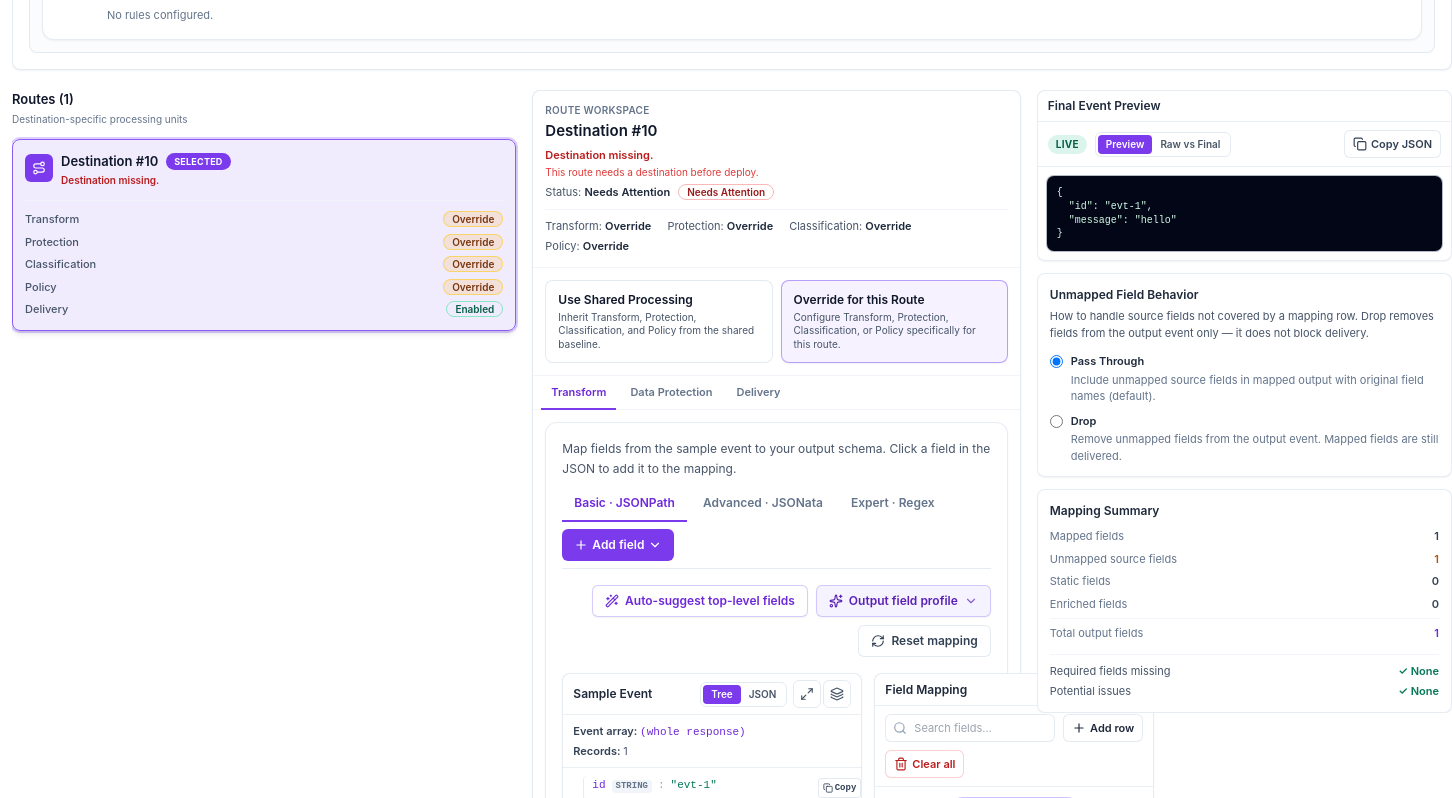
Test: StepRouteProcessing › shows unified data protection tab in route override mode
(page scrolled)
Click the tab with test id "route-detail-tab-data_protection".
click(671, 397)  # box left=620, top=384, right=722, bottom=410
(page scrolled)
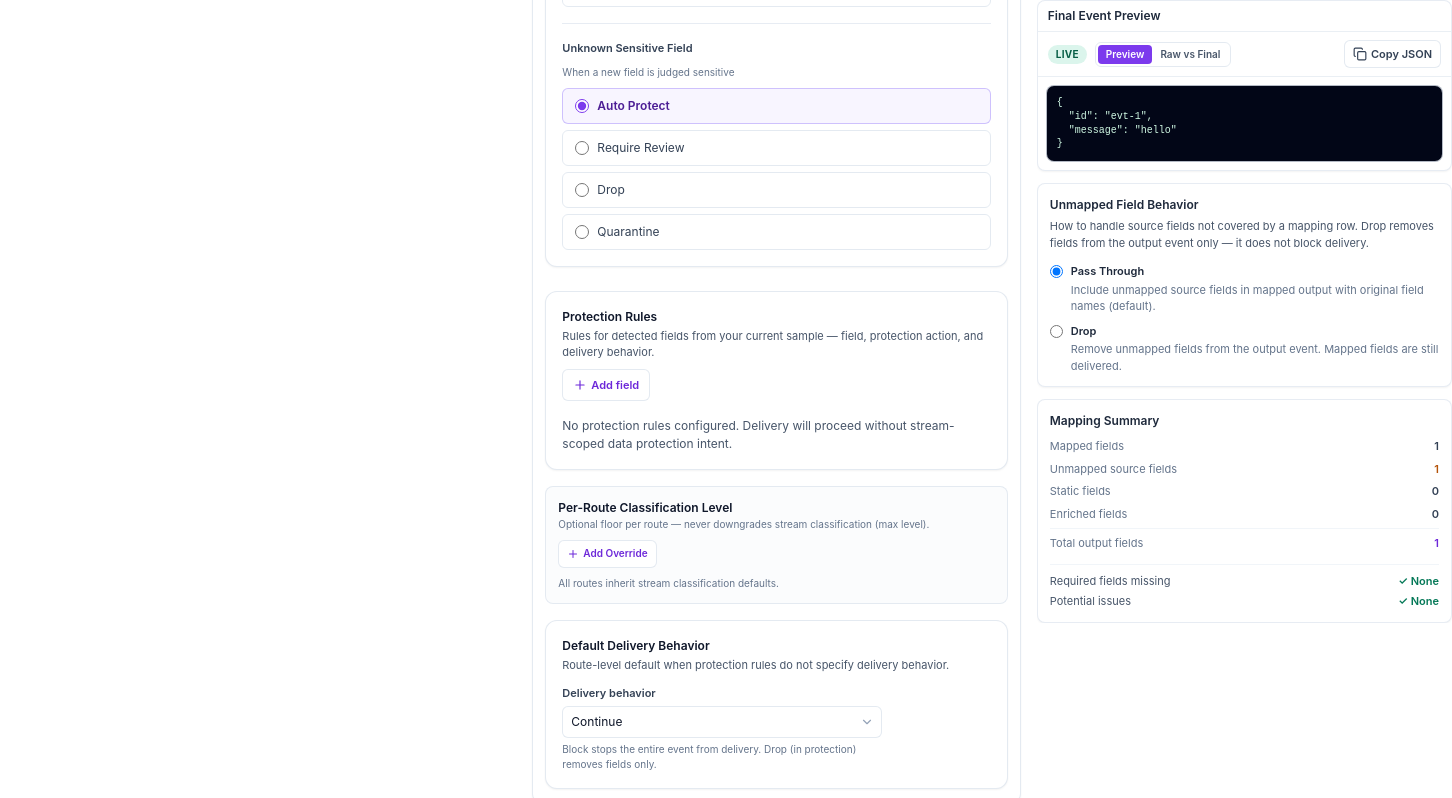
Result: the element with test id "protection-rules-section" is shown at left=545, top=291, right=1008, bottom=470
Result: the element with test id "route-default-delivery-behavior-section" is shown at left=545, top=620, right=1008, bottom=789
